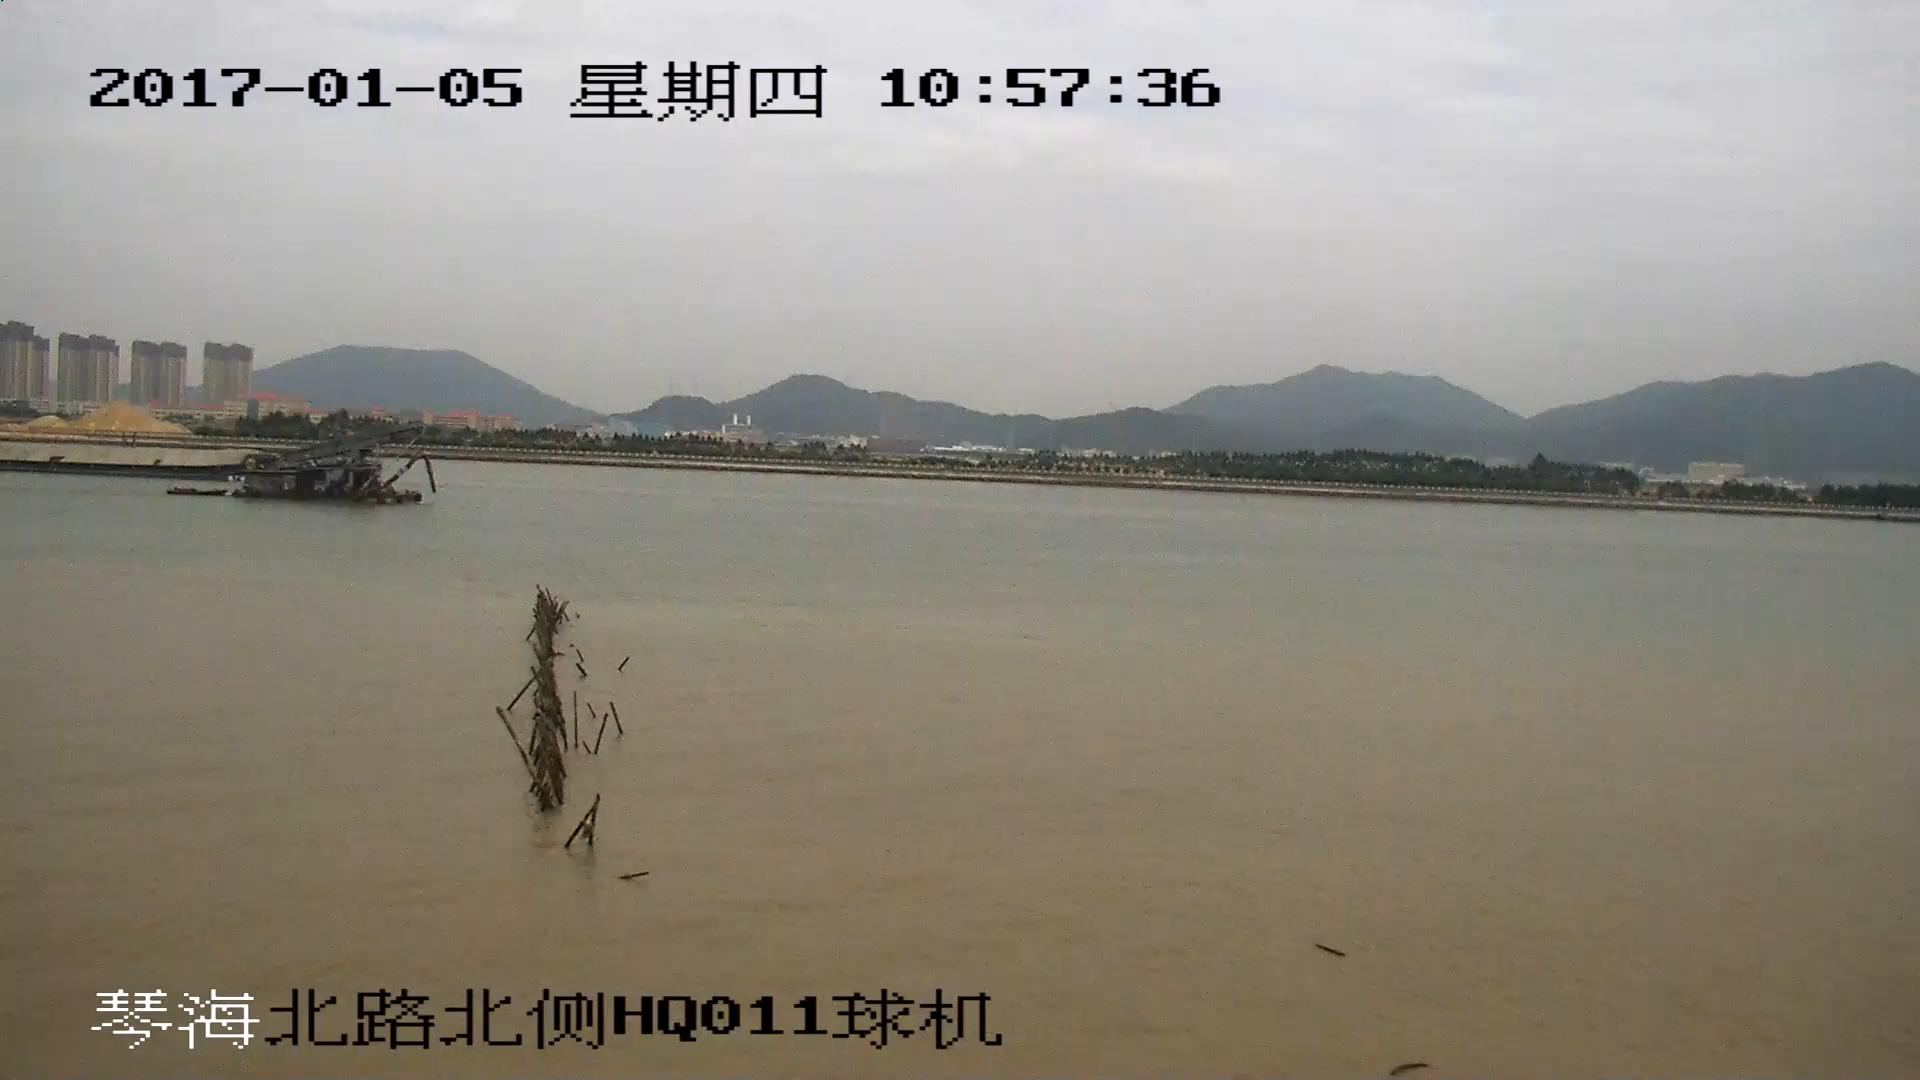ore carrier: (1, 418, 428, 504)
